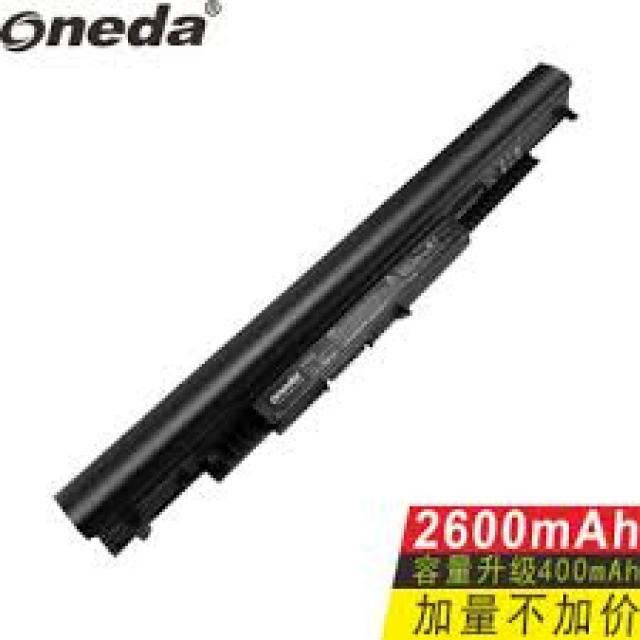non-organic waste: (56, 60, 573, 558)
